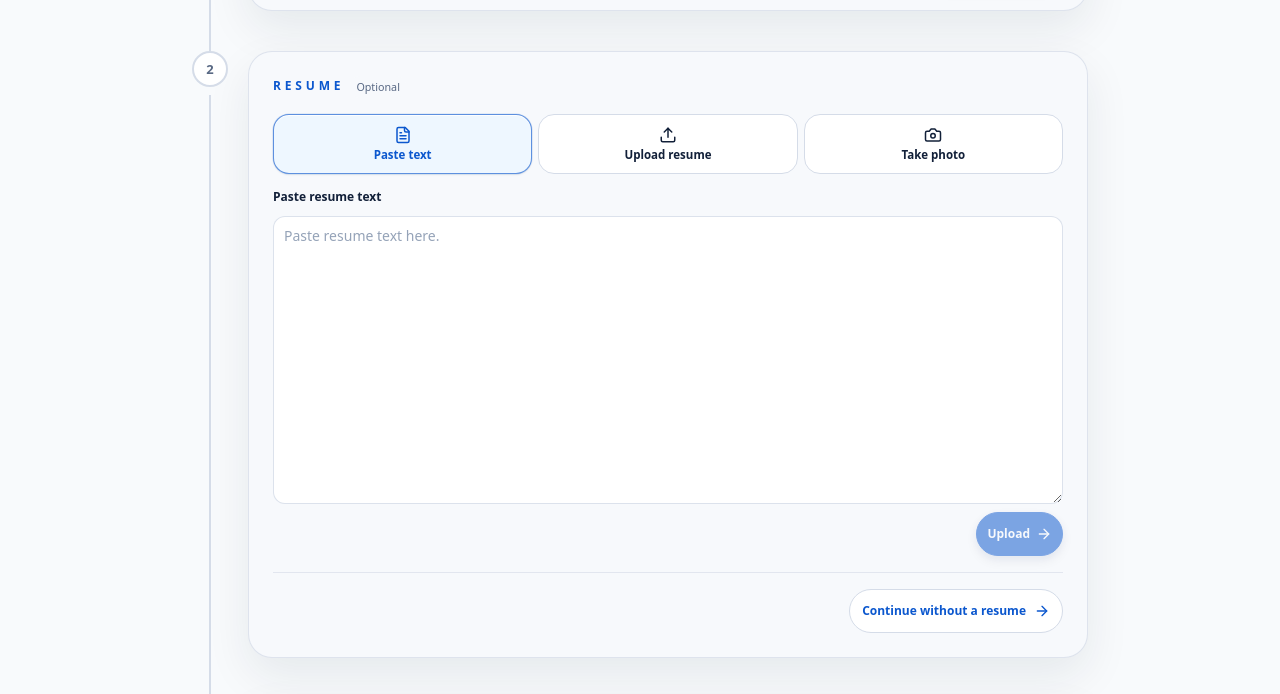
Test: presents resume preparation as an action, then explains processing and review
(page scrolled)
Type "Supported a high-volume front desk." into the text box labelled "Paste resume text" at (668, 360), box 273,216 -> 1063,504
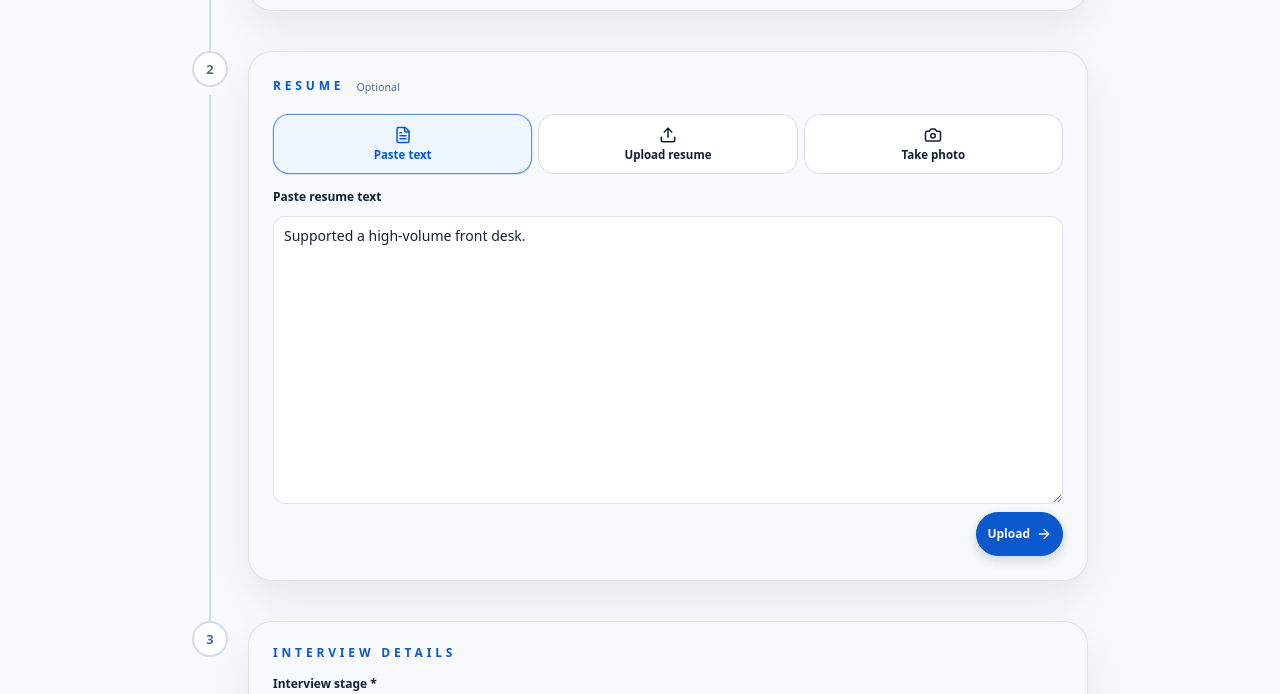
Expected: the button "Upload" is enabled
Click the button "Upload" at (1020, 534), box 976,512 -> 1063,556
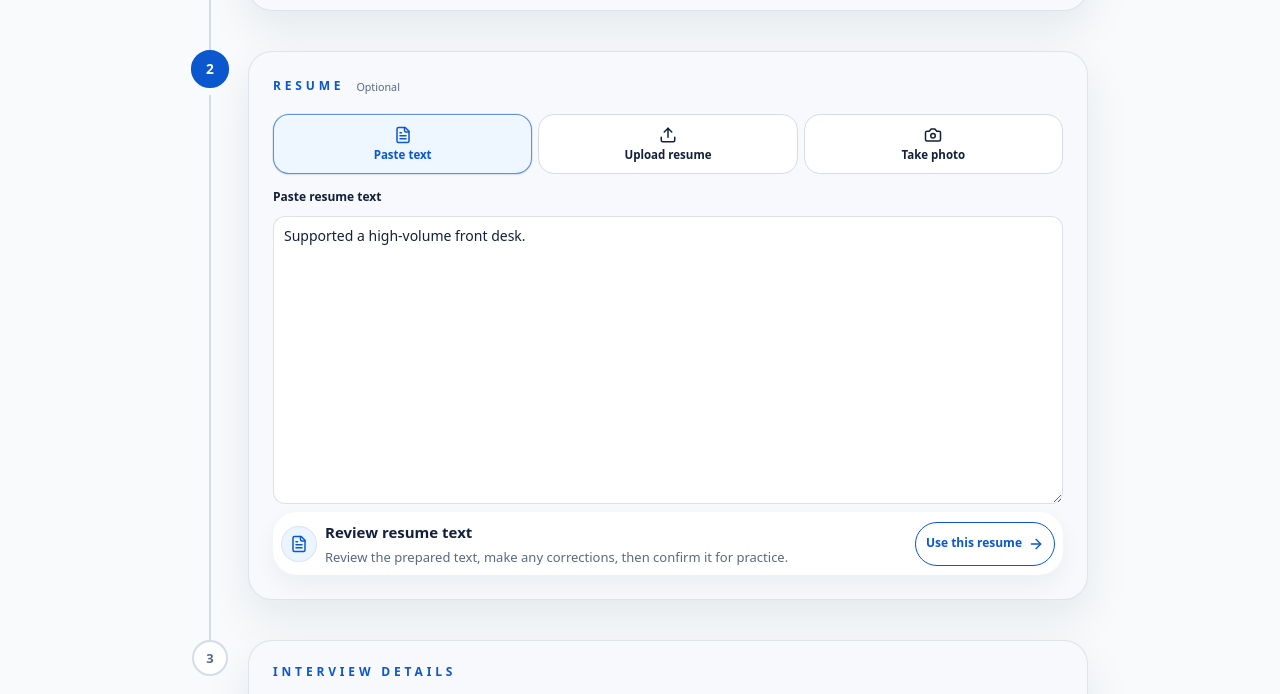
Expected: the icon with class "is-processing" is shown, 281,526 -> 317,562
Expected: the text "Review resume text" is shown, 325,522 -> 472,542
Expected: the text "Review the prepared text, make any corrections, then confirm it for practice" is shown, 325,548 -> 788,566
